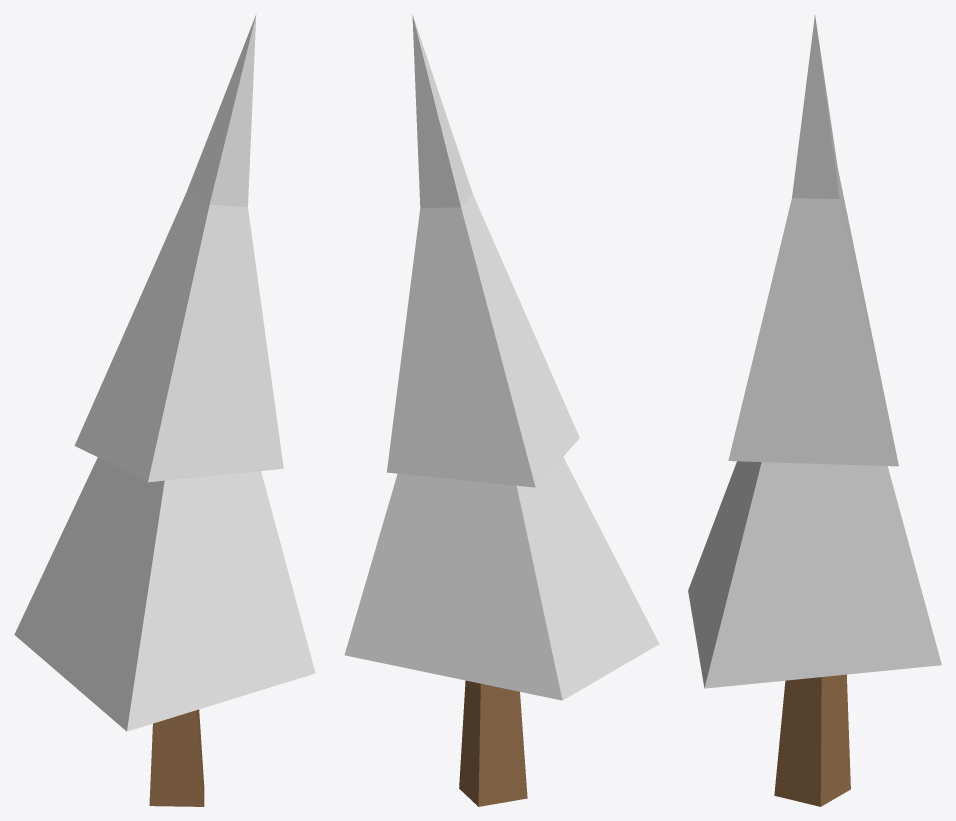
File: Fir_Tree_OneSided_s_Snow_06.fbx
3 renders of one model, left to right at view 1: azimuth 30°, elevation 25°; view 2: azimuth 150°, elevation 25°; view 3: azimuth 270°, elevation 25°, orthographic. The views are drawn at different scales.
Visible parts, largest first — view 1: Fir_Tree_OneSided_s_Snow_06; view 2: Fir_Tree_OneSided_s_Snow_06; view 3: Fir_Tree_OneSided_s_Snow_06.
Part boxes in pixels (left/top/right/bottom): Fir_Tree_OneSided_s_Snow_06: left=14, top=14, right=315, bottom=806; Fir_Tree_OneSided_s_Snow_06: left=344, top=14, right=659, bottom=806; Fir_Tree_OneSided_s_Snow_06: left=688, top=15, right=941, bottom=806.
Bounding box in the file's own units: 43.42 × 154 × 43.27.
